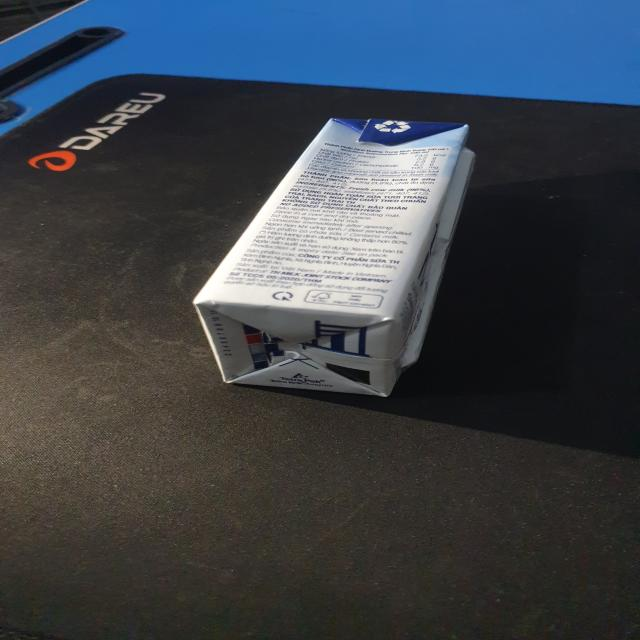TH: (189, 115, 485, 404)
